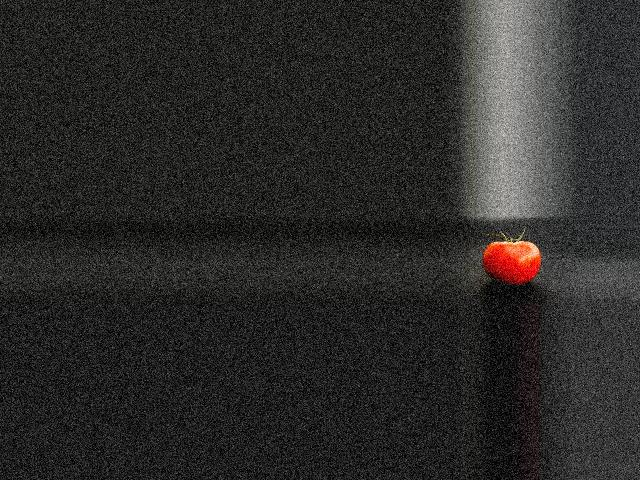tomato: (483, 241, 541, 285)
